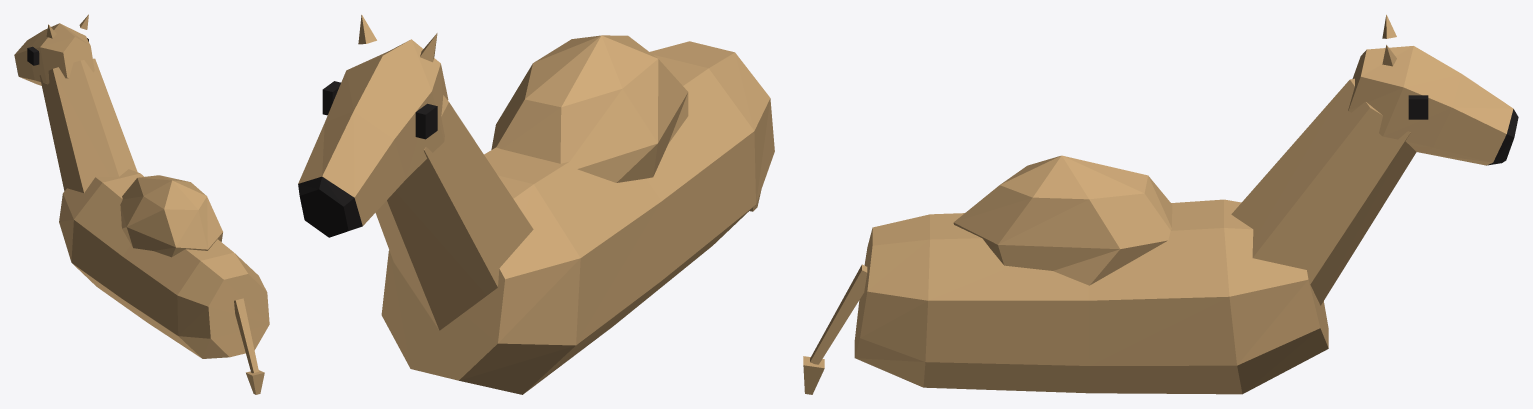
File: animal_dromedary.obj
3 views of the same model, side by side, from view 1: azimuth 30°, elevation 25°; view 2: azimuth 150°, elevation 25°; view 3: azimuth 270°, elevation 25° (orthographic). The views are drawn at different scales.
Visible parts, largest first — view 1: animal_dromedary; view 2: animal_dromedary; view 3: animal_dromedary.
Boxes of the visible parts, bbox=[...] form: animal_dromedary: bbox=[14, 14, 269, 394]; animal_dromedary: bbox=[298, 14, 774, 394]; animal_dromedary: bbox=[803, 14, 1518, 394].
Size of the model in its own units: 0.4612 by 1.14 by 2.03.
